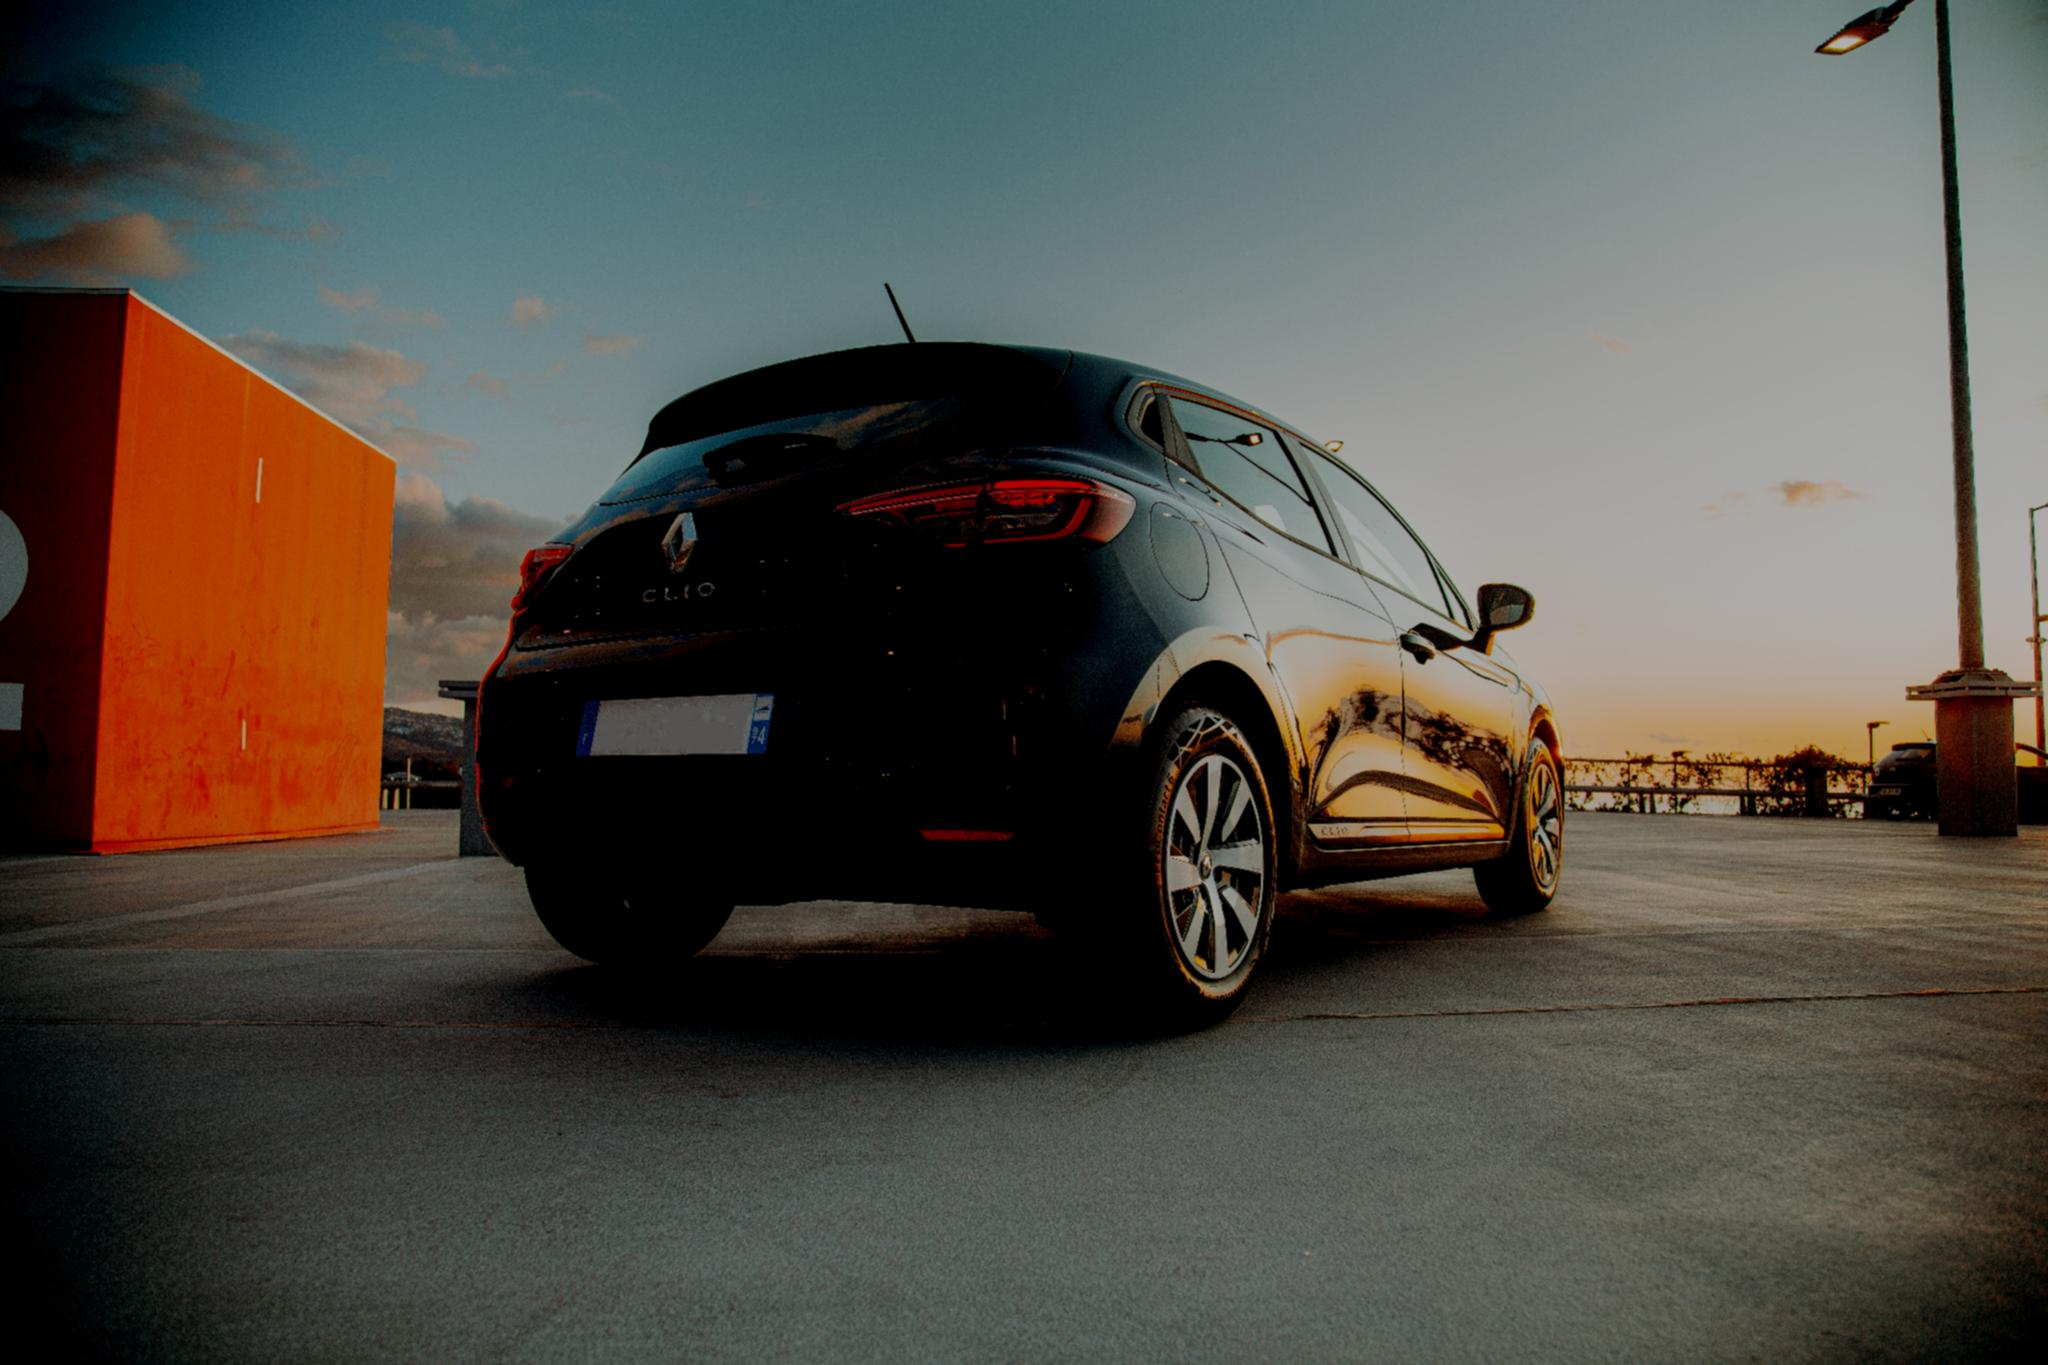Renault: (638, 492, 723, 585)
